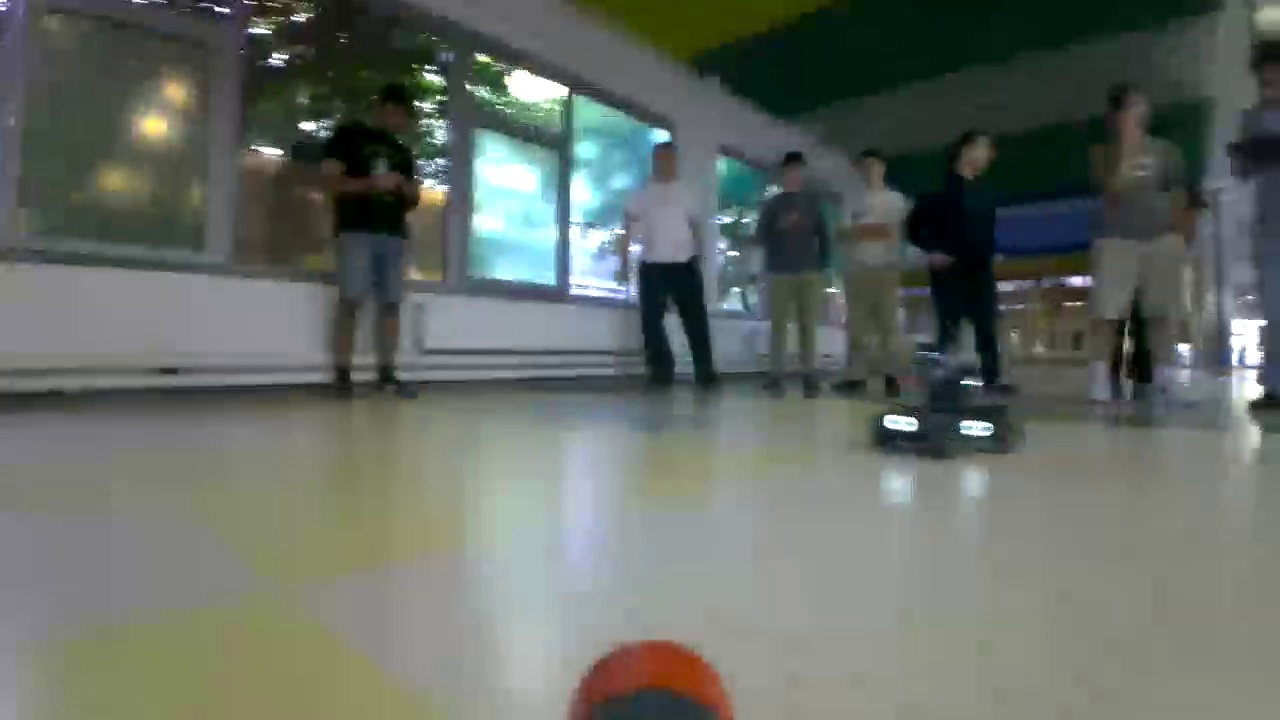robot: (865, 365, 1028, 462)
